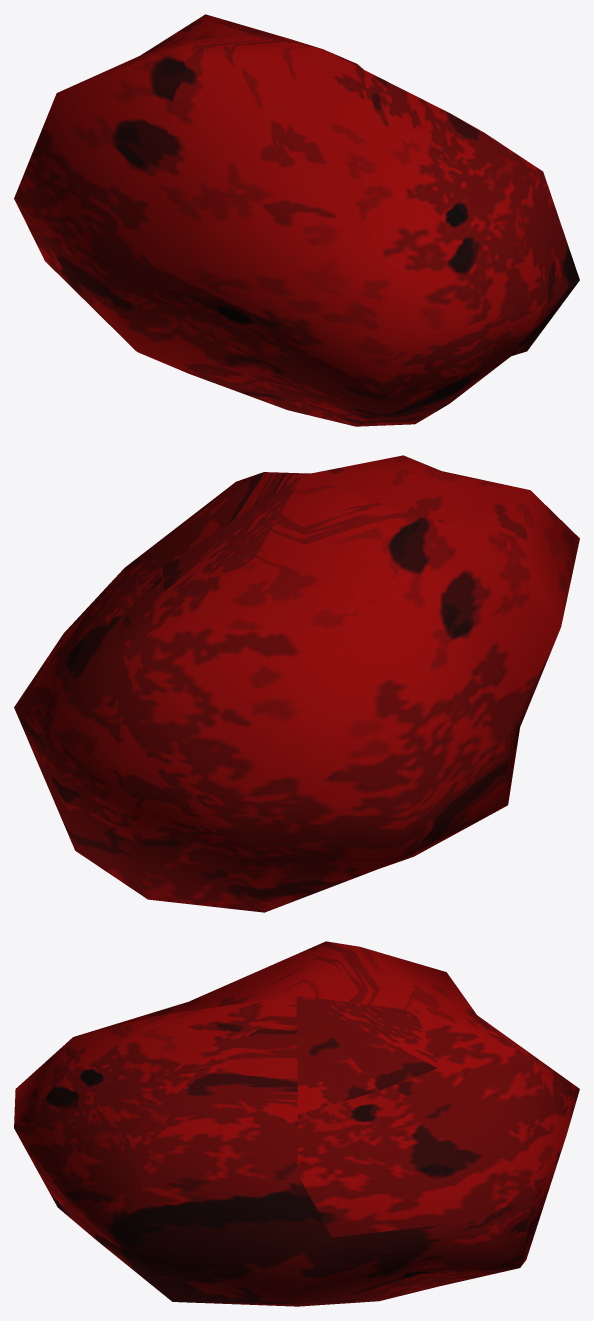
The model's file is basalt.FBX.
3 views of the same model, one above another, from view 1: azimuth 30°, elevation 25°; view 2: azimuth 150°, elevation 25°; view 3: azimuth 270°, elevation 25° (orthographic). The views are drawn at different scales.
Visible parts, largest first — view 1: Sphere001; view 2: Sphere001; view 3: Sphere001.
Boxes of the visible parts, x1,y1,x2,y2 form: Sphere001: (14,14,579,426); Sphere001: (14,455,579,912); Sphere001: (14,941,579,1306).
Bounding box in the file's own units: 88.61 × 70.51 × 122.
Materials: 1 (1 with a texture image).
